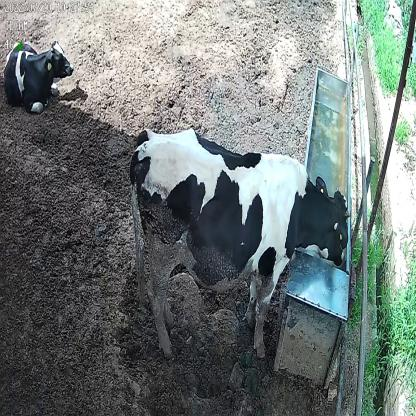cow: (128, 122, 352, 361), (3, 32, 74, 117)
